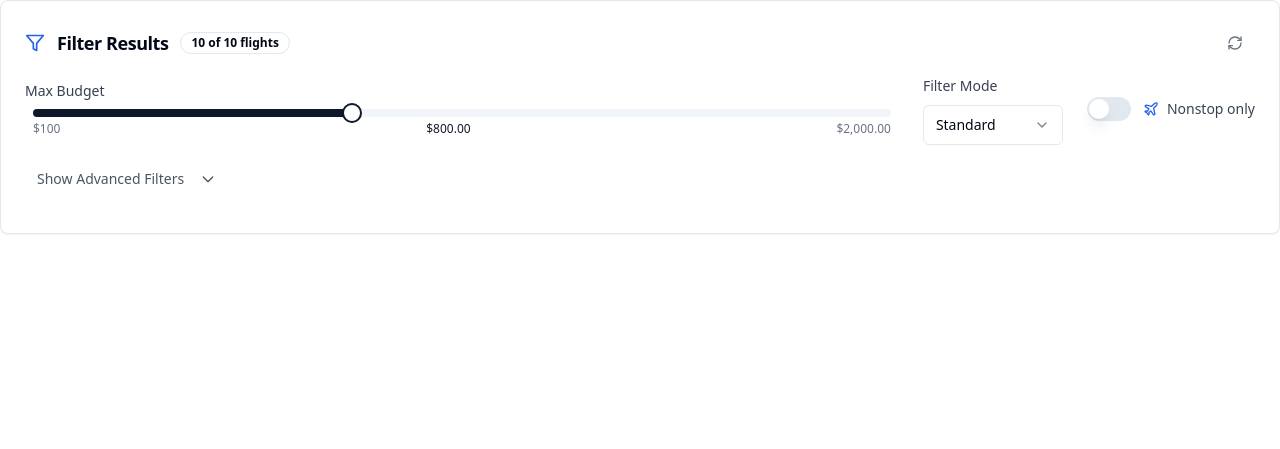
Phase 3: Frontend Integration Tests › AdvancedFilterControls Component › should expand and show advanced filters
Click the button "Show Advanced Filters".
click(127, 179)  # box [25, 161, 228, 197]
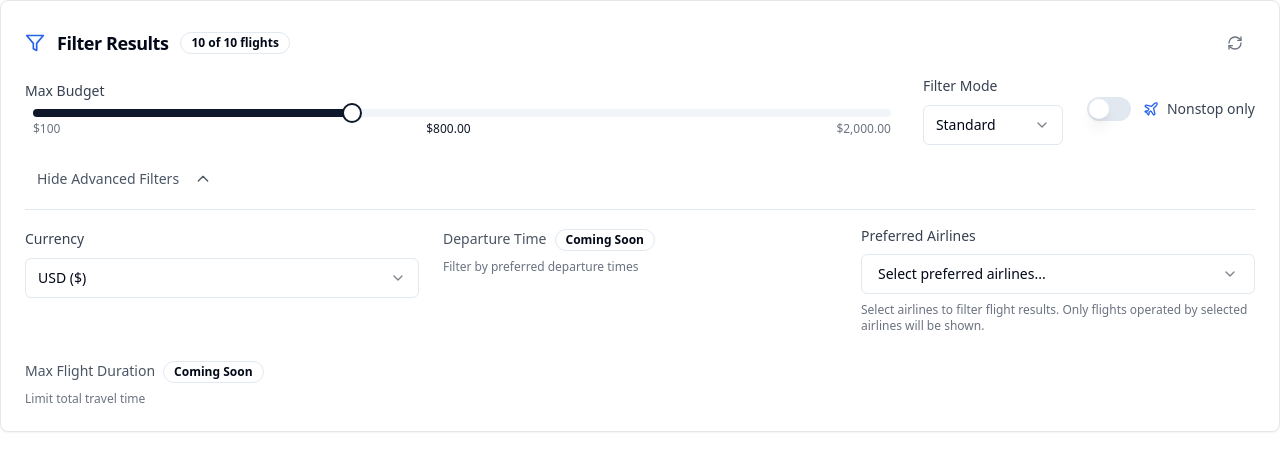
Expected: the text "Currency" is shown, [25, 229, 84, 248]
Expected: the text "Departure Time" is shown, [443, 229, 546, 248]
Expected: the text "Max Flight Duration" is shown, [25, 361, 155, 380]
